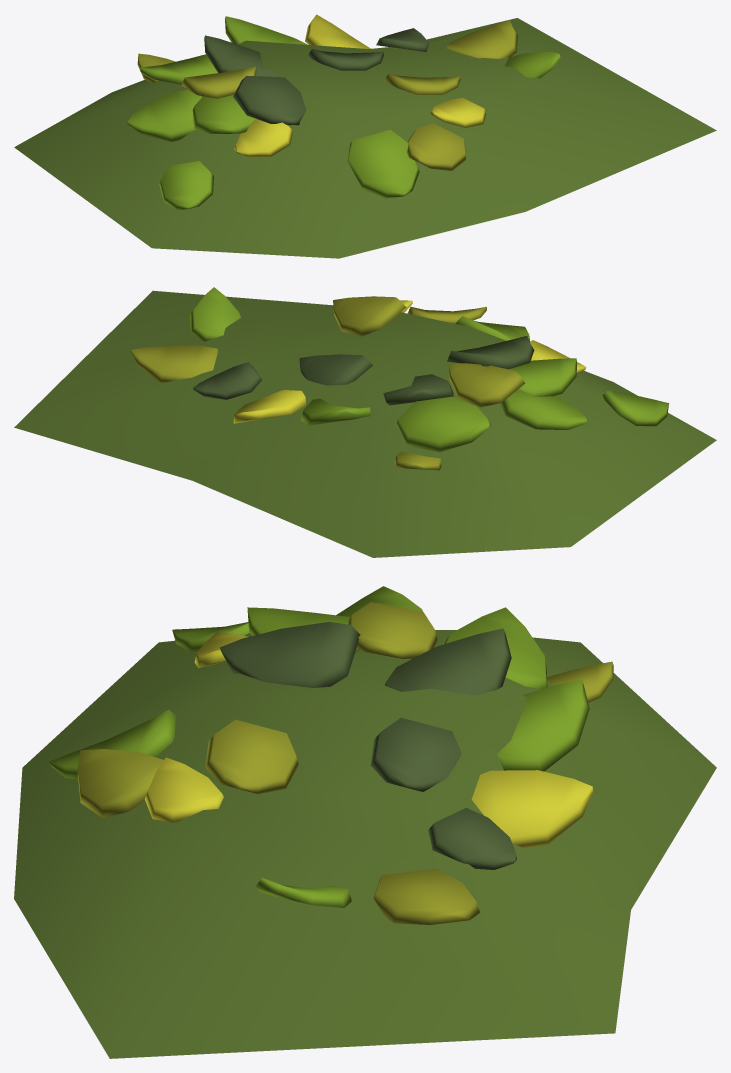
Rendered from leaves.fbx.
3 views of the same model, one above another, from view 1: azimuth 30°, elevation 25°; view 2: azimuth 150°, elevation 25°; view 3: azimuth 270°, elevation 25° (orthographic). The views are drawn at different scales.
Visible parts, largest first — view 1: Cube.002; view 2: Cube.002; view 3: Cube.002.
Part boxes in pixels (x1,y1,x2,y2): Cube.002: [14, 14, 716, 258]; Cube.002: [14, 287, 716, 557]; Cube.002: [14, 586, 716, 1058].
Size of the model in its own units: 124 by 22.05 by 89.66.
